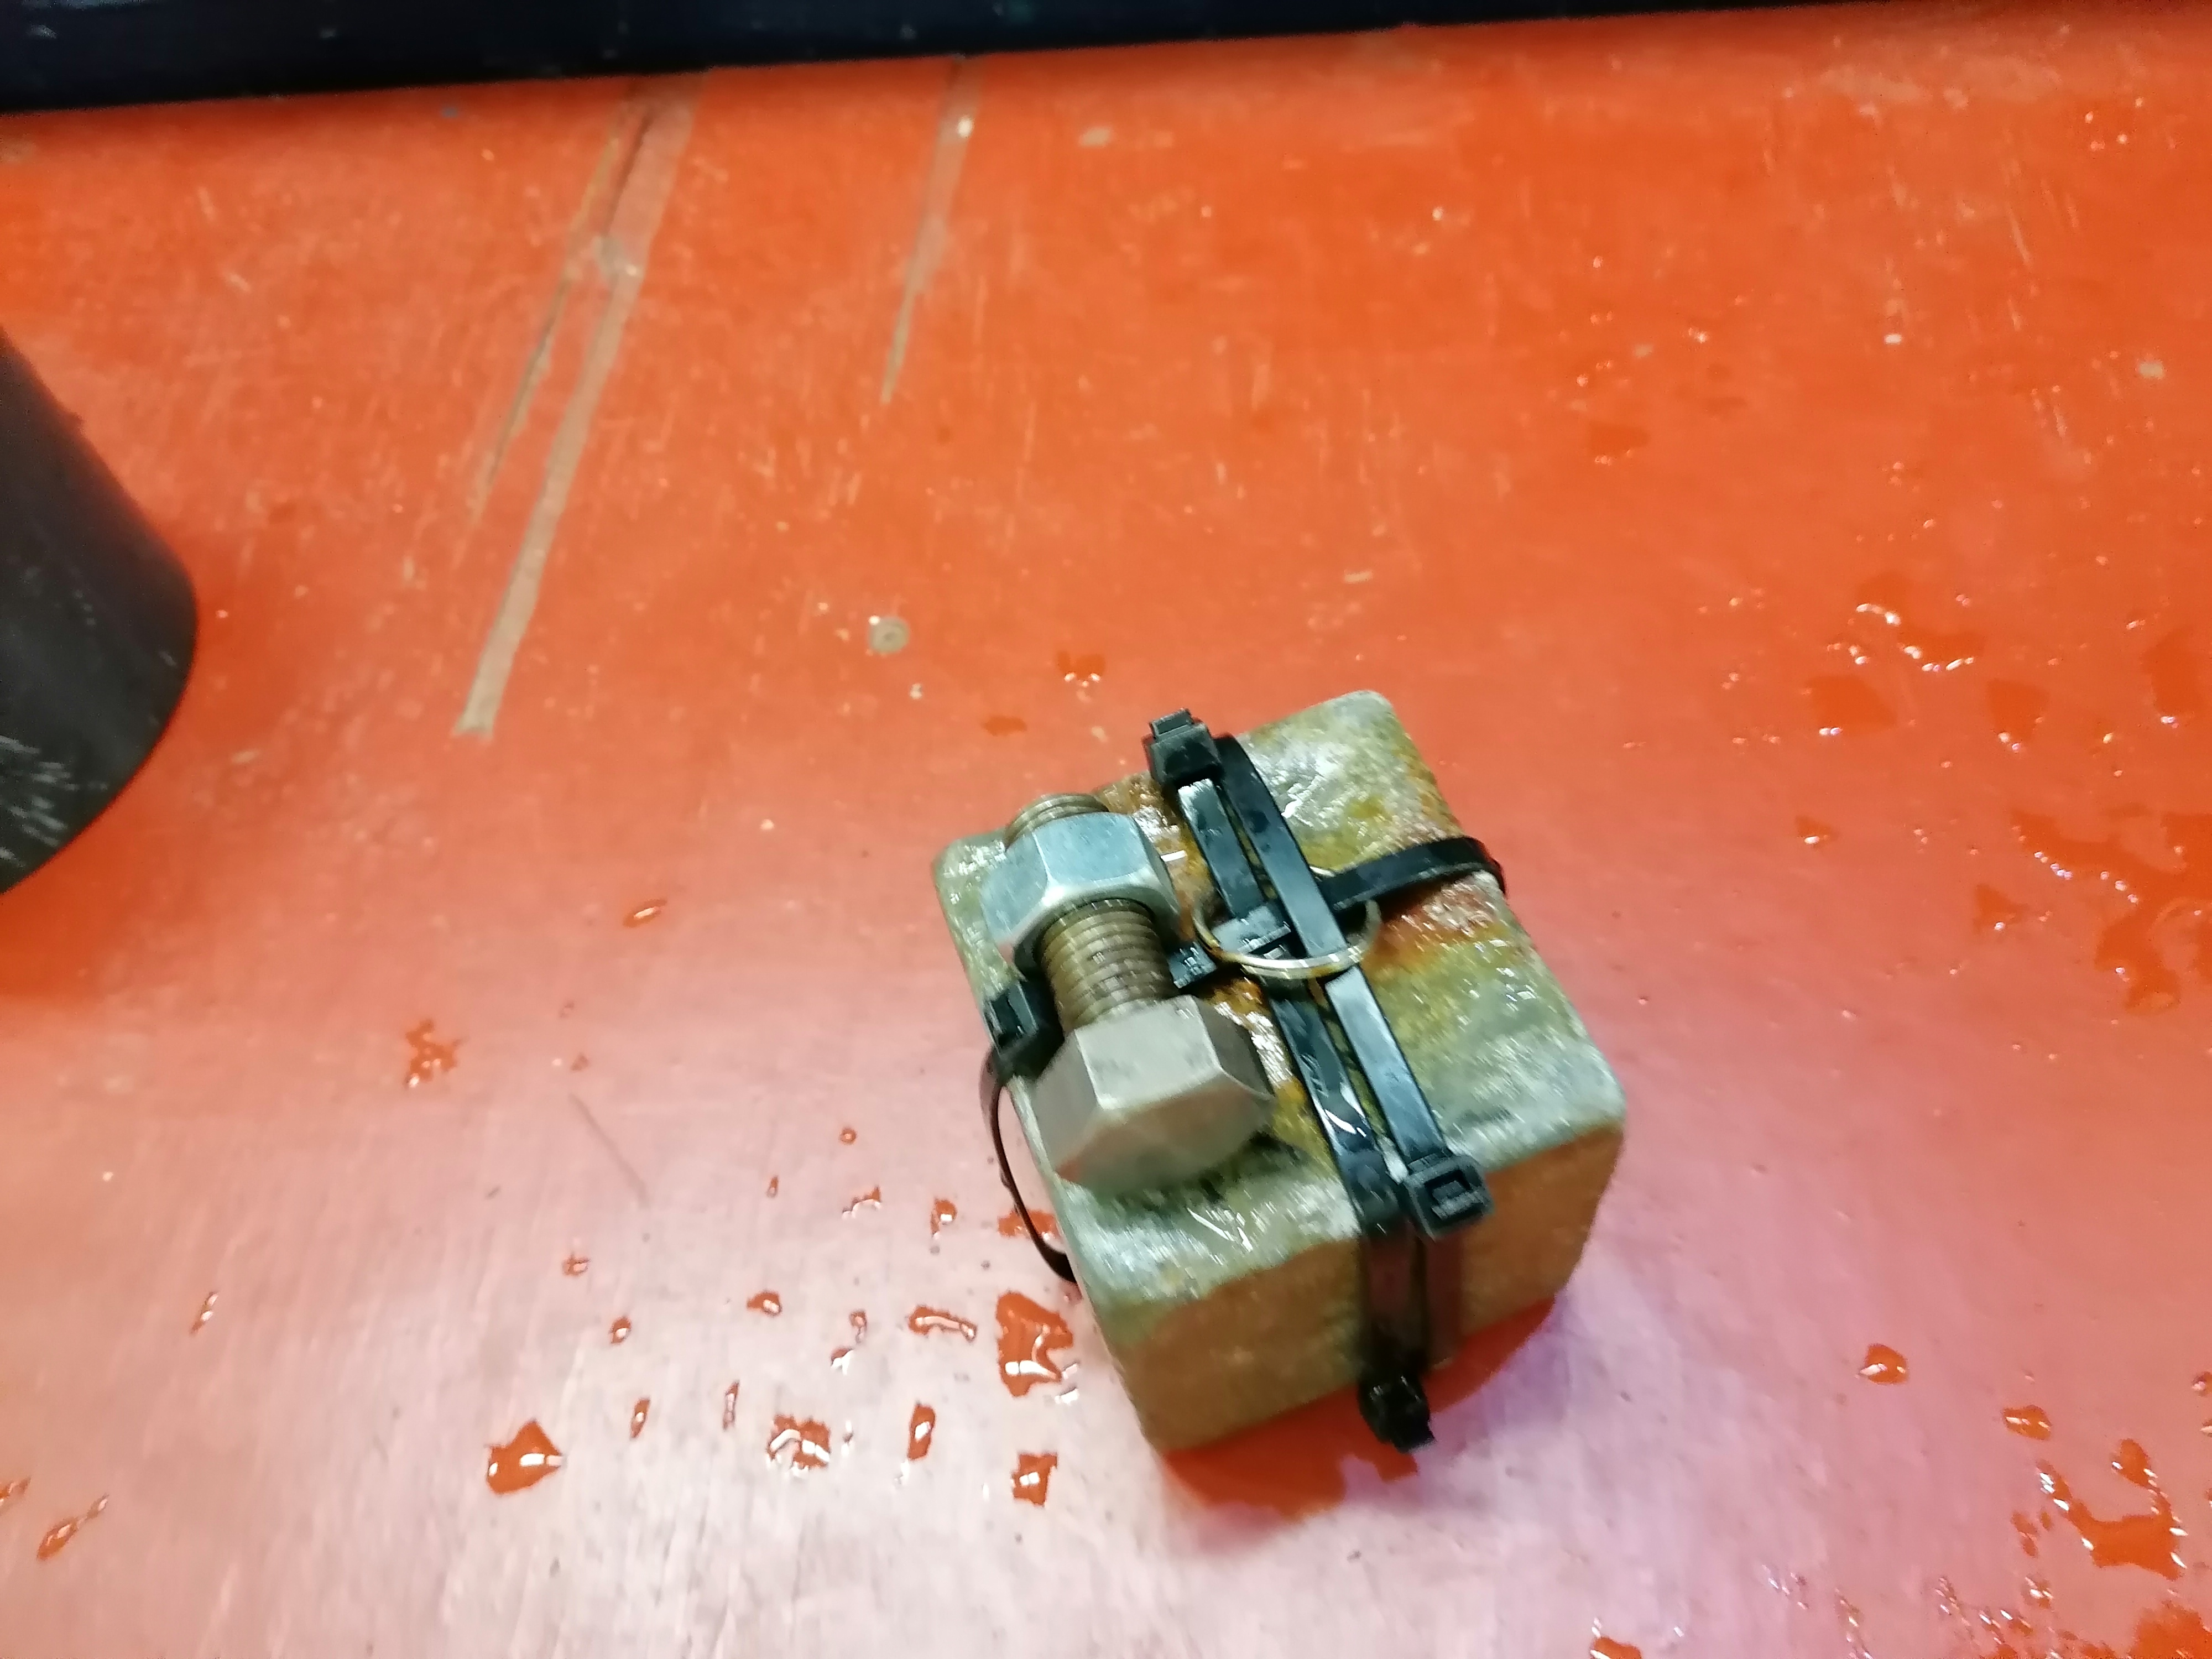bolt: (1008, 791, 1278, 1194)
led_block: (928, 683, 1625, 1453)
nut: (981, 809, 1179, 965)
pipe: (0, 322, 202, 892)
